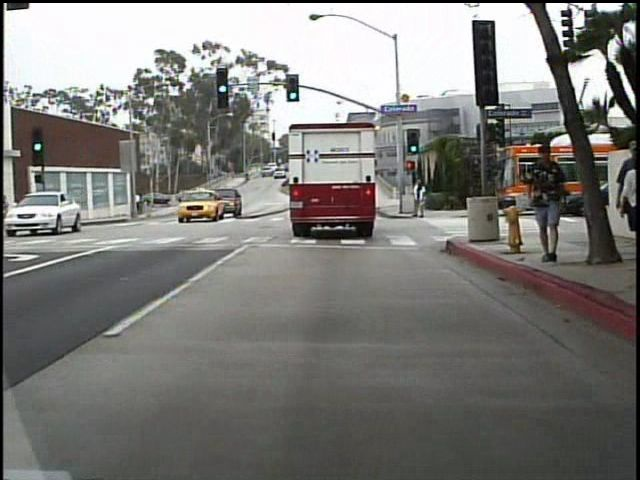person: (536, 136, 579, 272), (406, 177, 431, 222), (35, 189, 51, 229), (131, 187, 147, 220)
